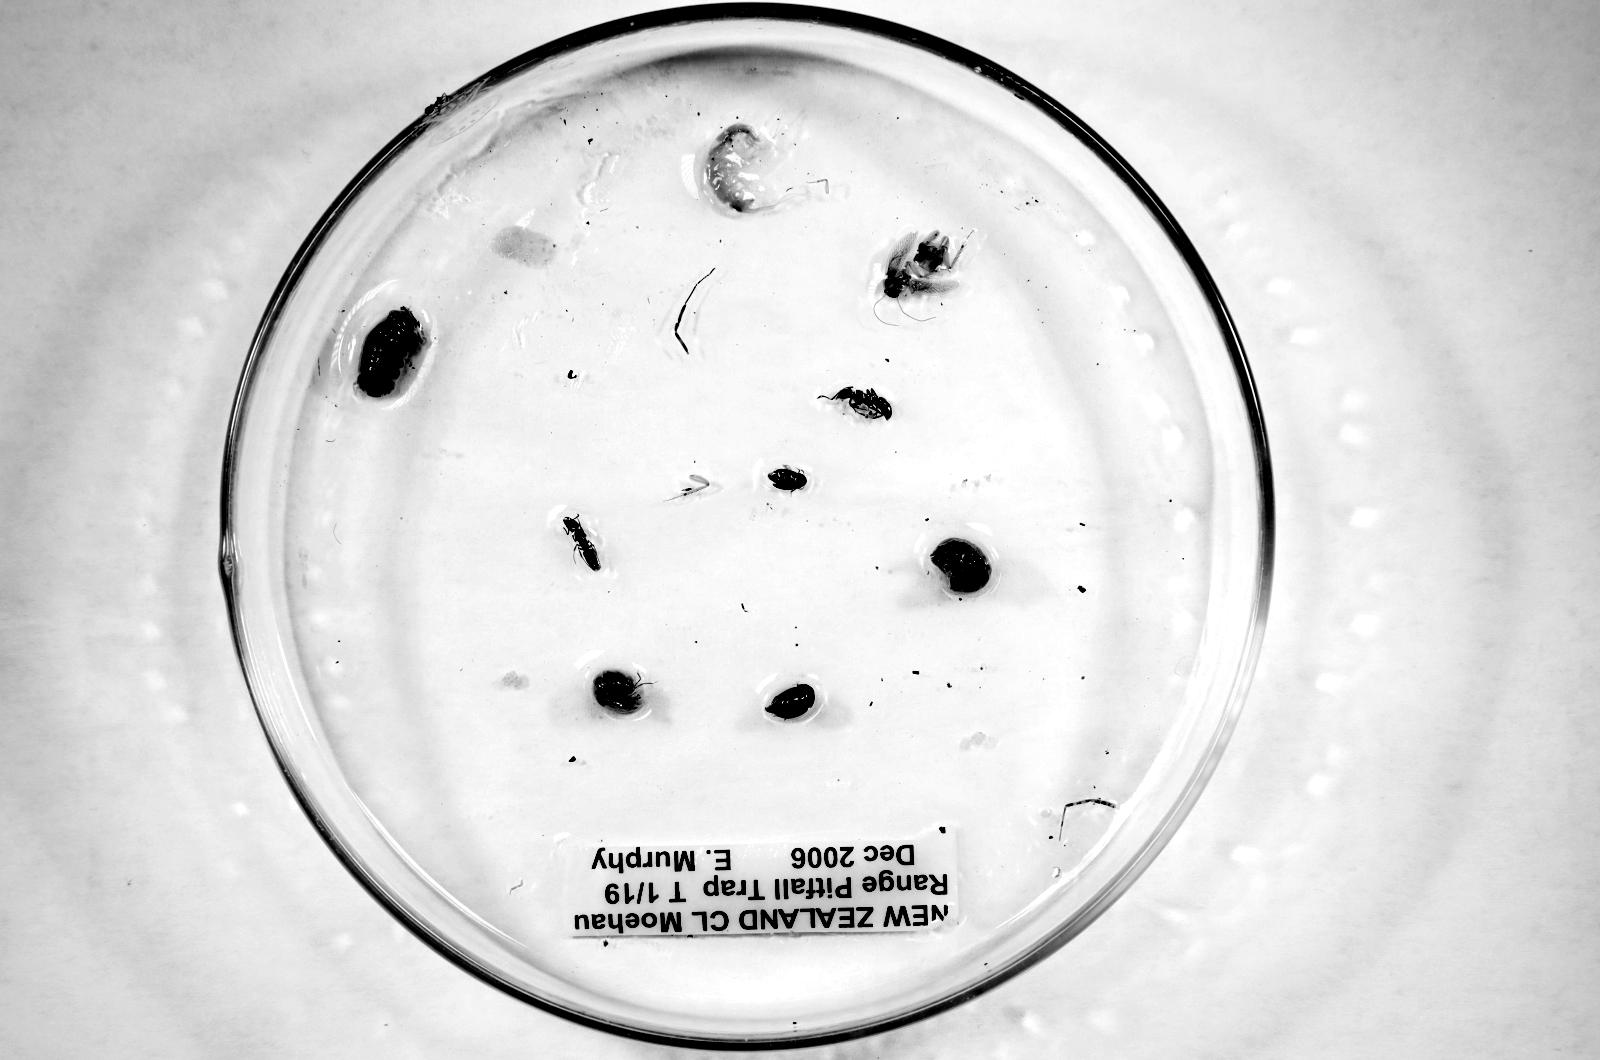amphipoda: (705, 123, 767, 212)
coleoptera: (765, 683, 816, 719), (767, 466, 808, 491)
formicidae: (563, 516, 601, 570), (831, 387, 892, 419)
isopoda: (356, 306, 427, 399), (929, 538, 991, 593), (592, 670, 642, 715)
